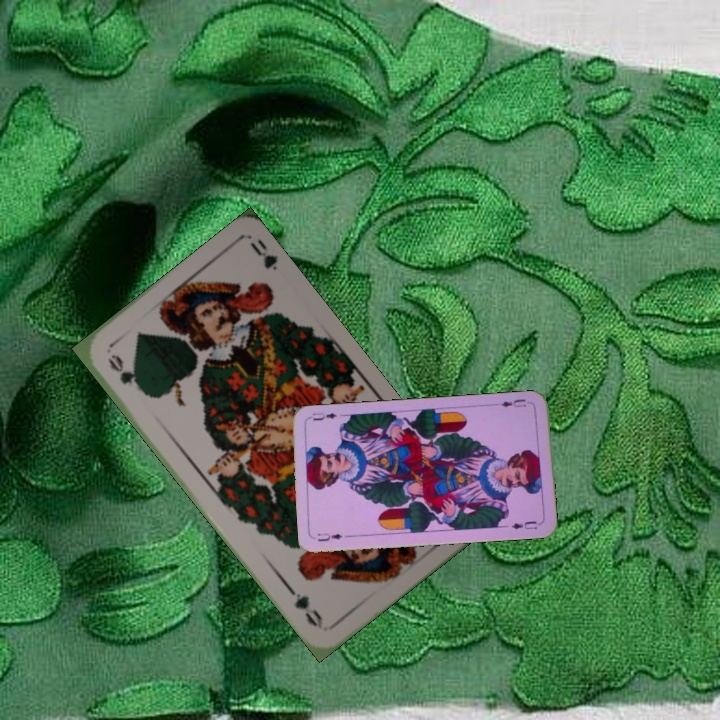EU: (497, 395, 528, 410), (314, 529, 345, 544)
GO: (104, 350, 148, 397)
